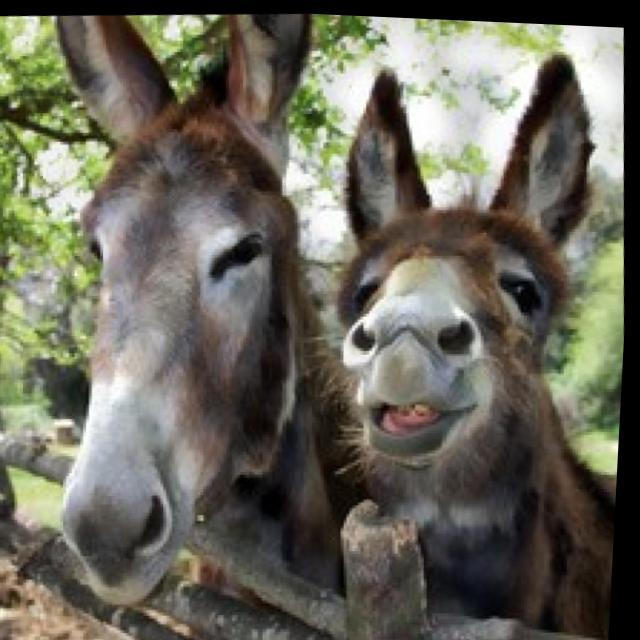Donkey: (29, 2, 399, 640), (310, 33, 639, 640)
